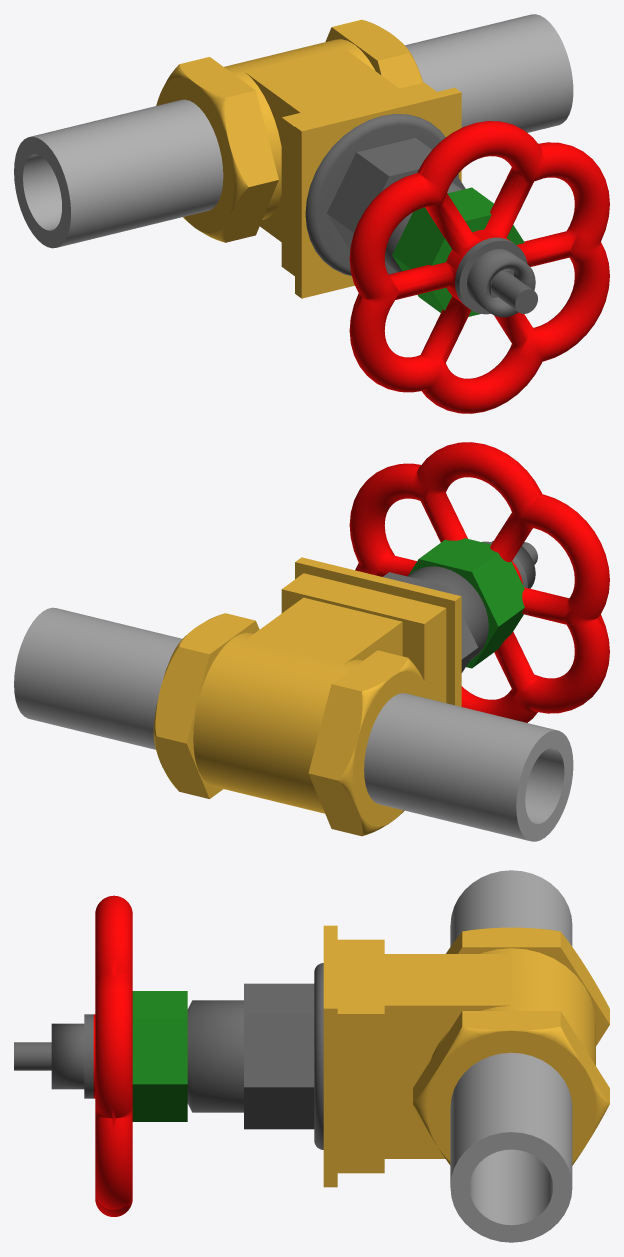
Rendered from valve.glb.
3 renders of one model, top to bottom at view 1: azimuth 30°, elevation 25°; view 2: azimuth 150°, elevation 25°; view 3: azimuth 270°, elevation 25°, orthographic. The views are drawn at different scales.
Visible parts, largest first — view 1: G-Object.006, C-Group#6; view 2: G-Object.006, C-Group#6; view 3: G-Object.006, C-Group#6.
Boxes of the visible parts, box(x1,y1,x2,y2) form: G-Object.006: box(14, 14, 573, 316); C-Group#6: box(349, 121, 609, 413); G-Object.006: box(14, 538, 573, 841); C-Group#6: box(349, 442, 609, 722); G-Object.006: box(14, 870, 609, 1242); C-Group#6: box(51, 895, 132, 1216).
Bounding box in the file's own units: 0.132 × 0.072 × 0.127.
